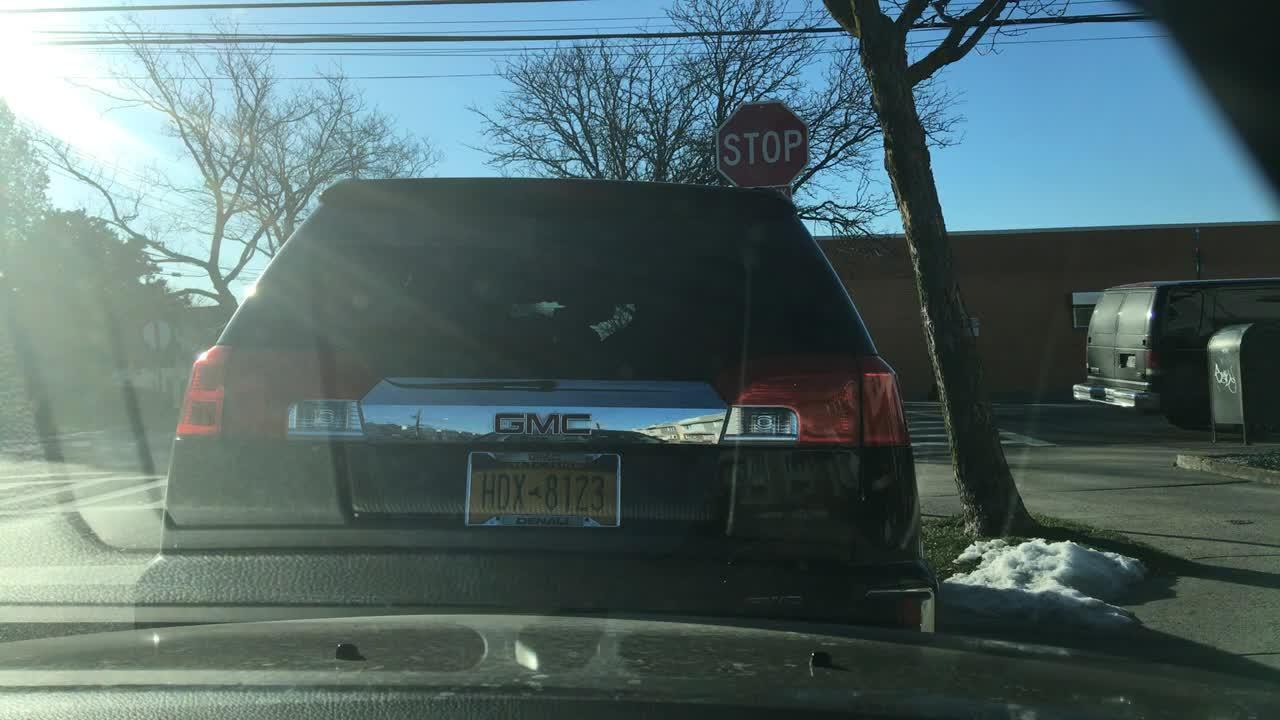GMC: (476, 396, 616, 459)
